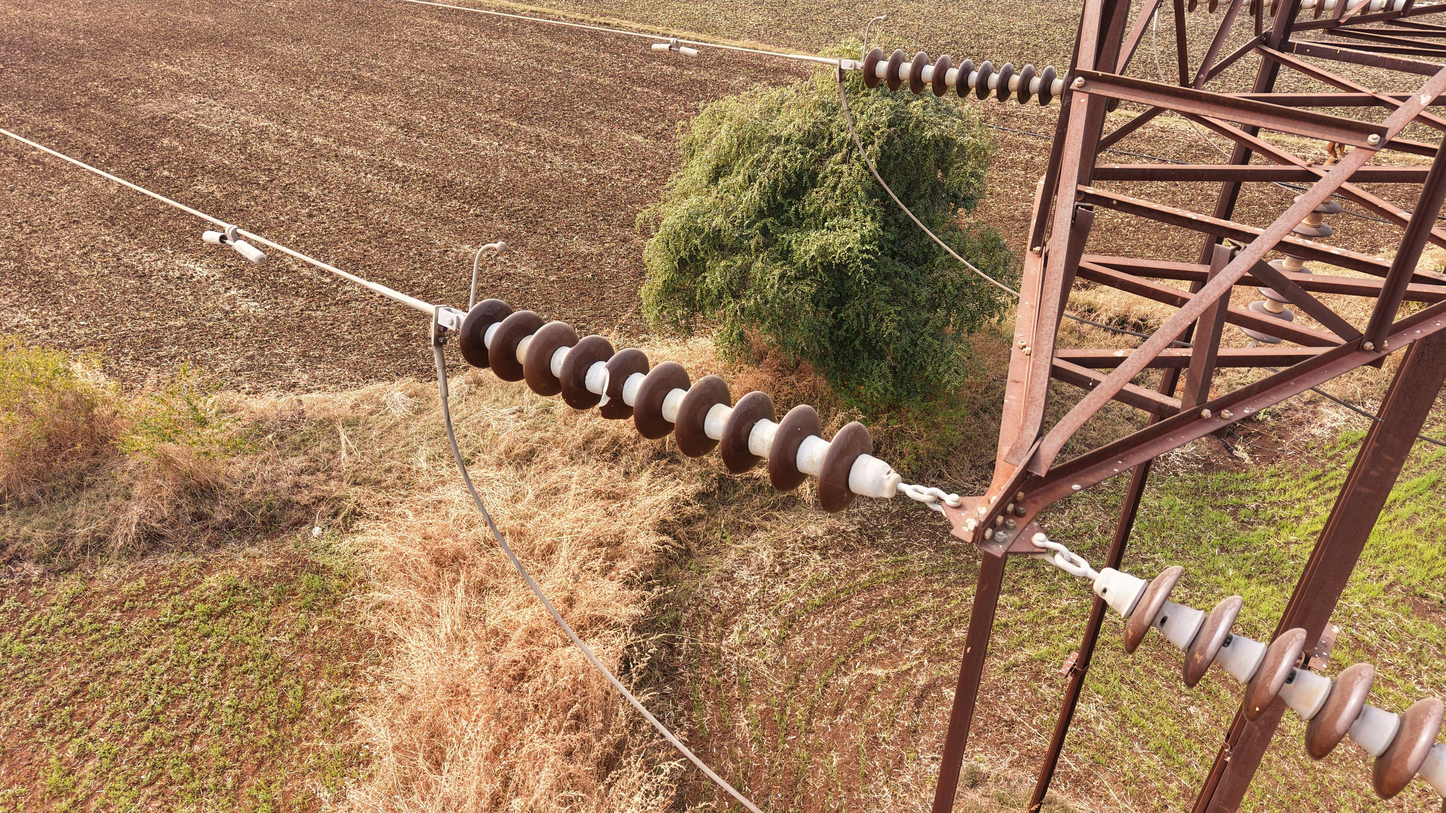broken_insulator: (587, 348, 629, 429)
